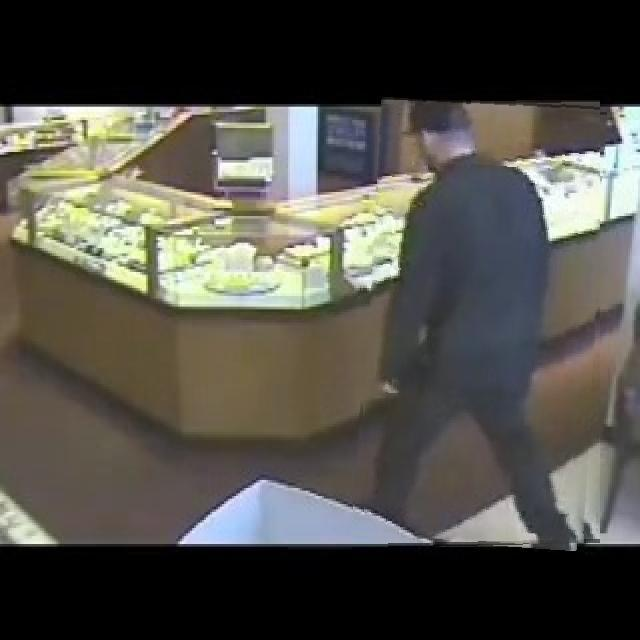Normal: (358, 100, 600, 548)
